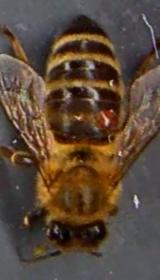varroa_mite: (84, 102, 123, 136)
